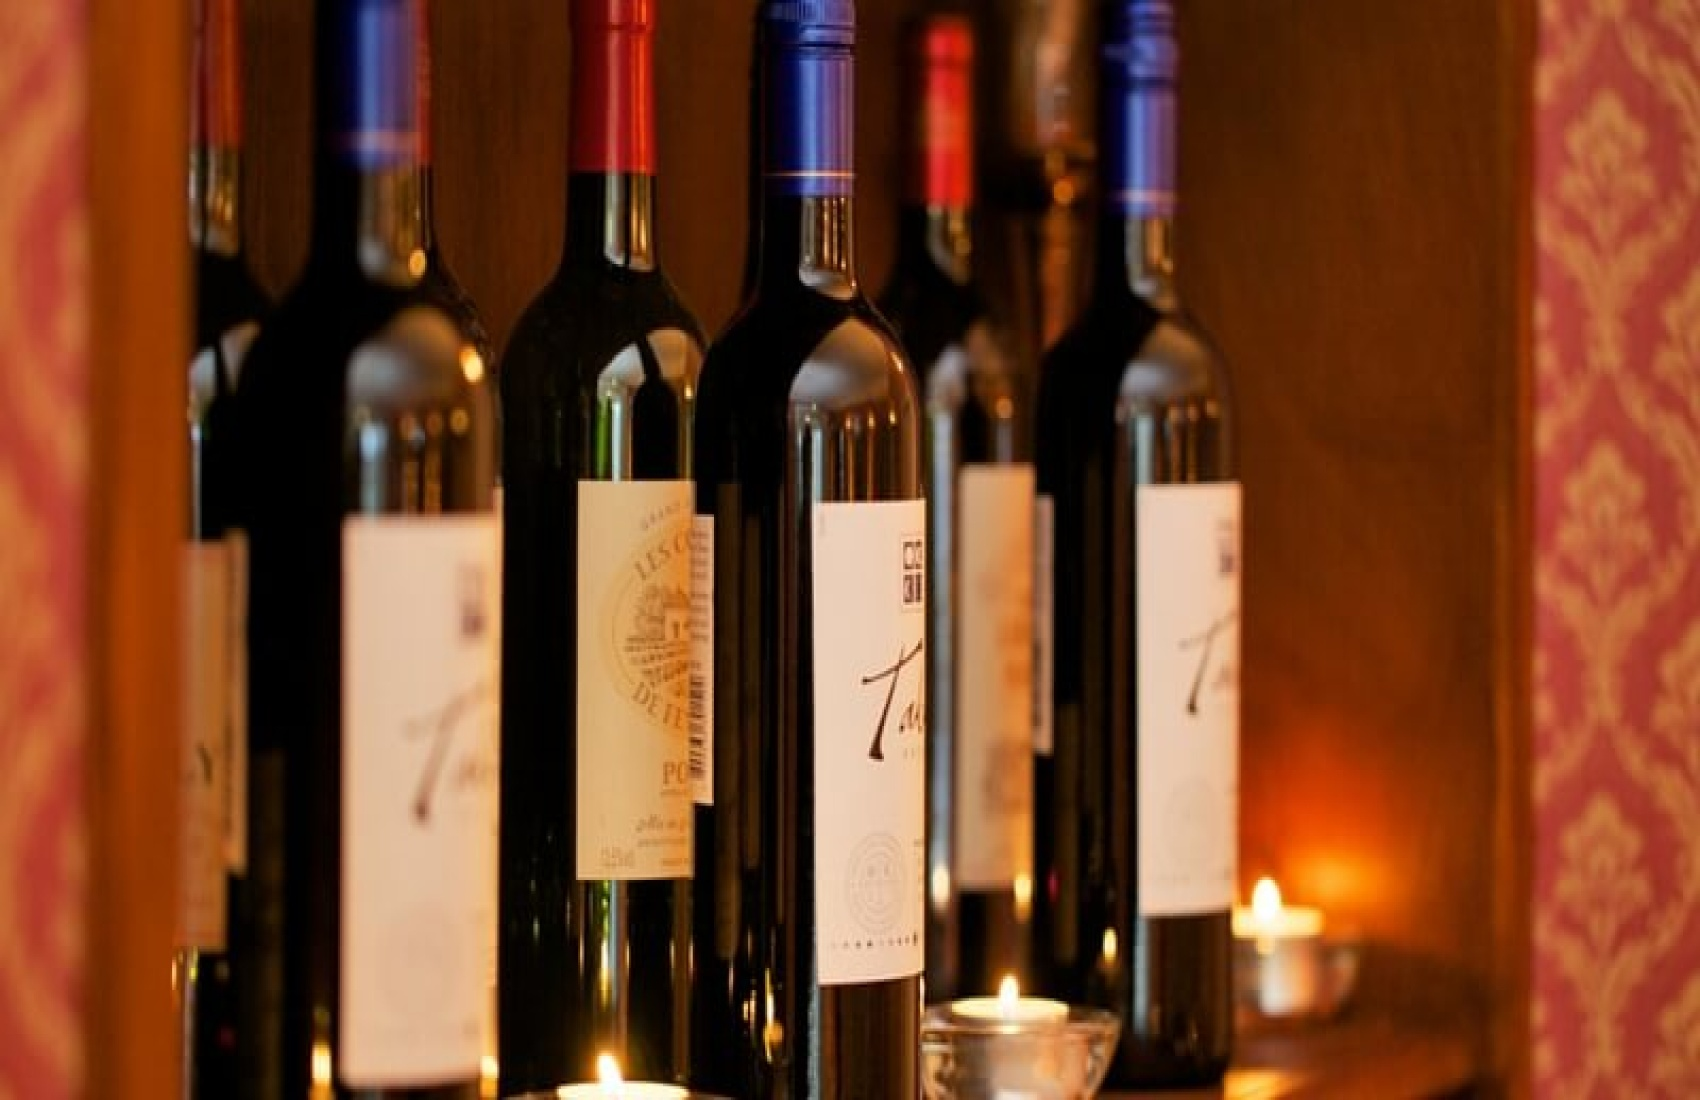wine: (181, 121, 489, 1100), (694, 107, 917, 1100), (517, 84, 699, 1062), (1066, 77, 1247, 1055)
